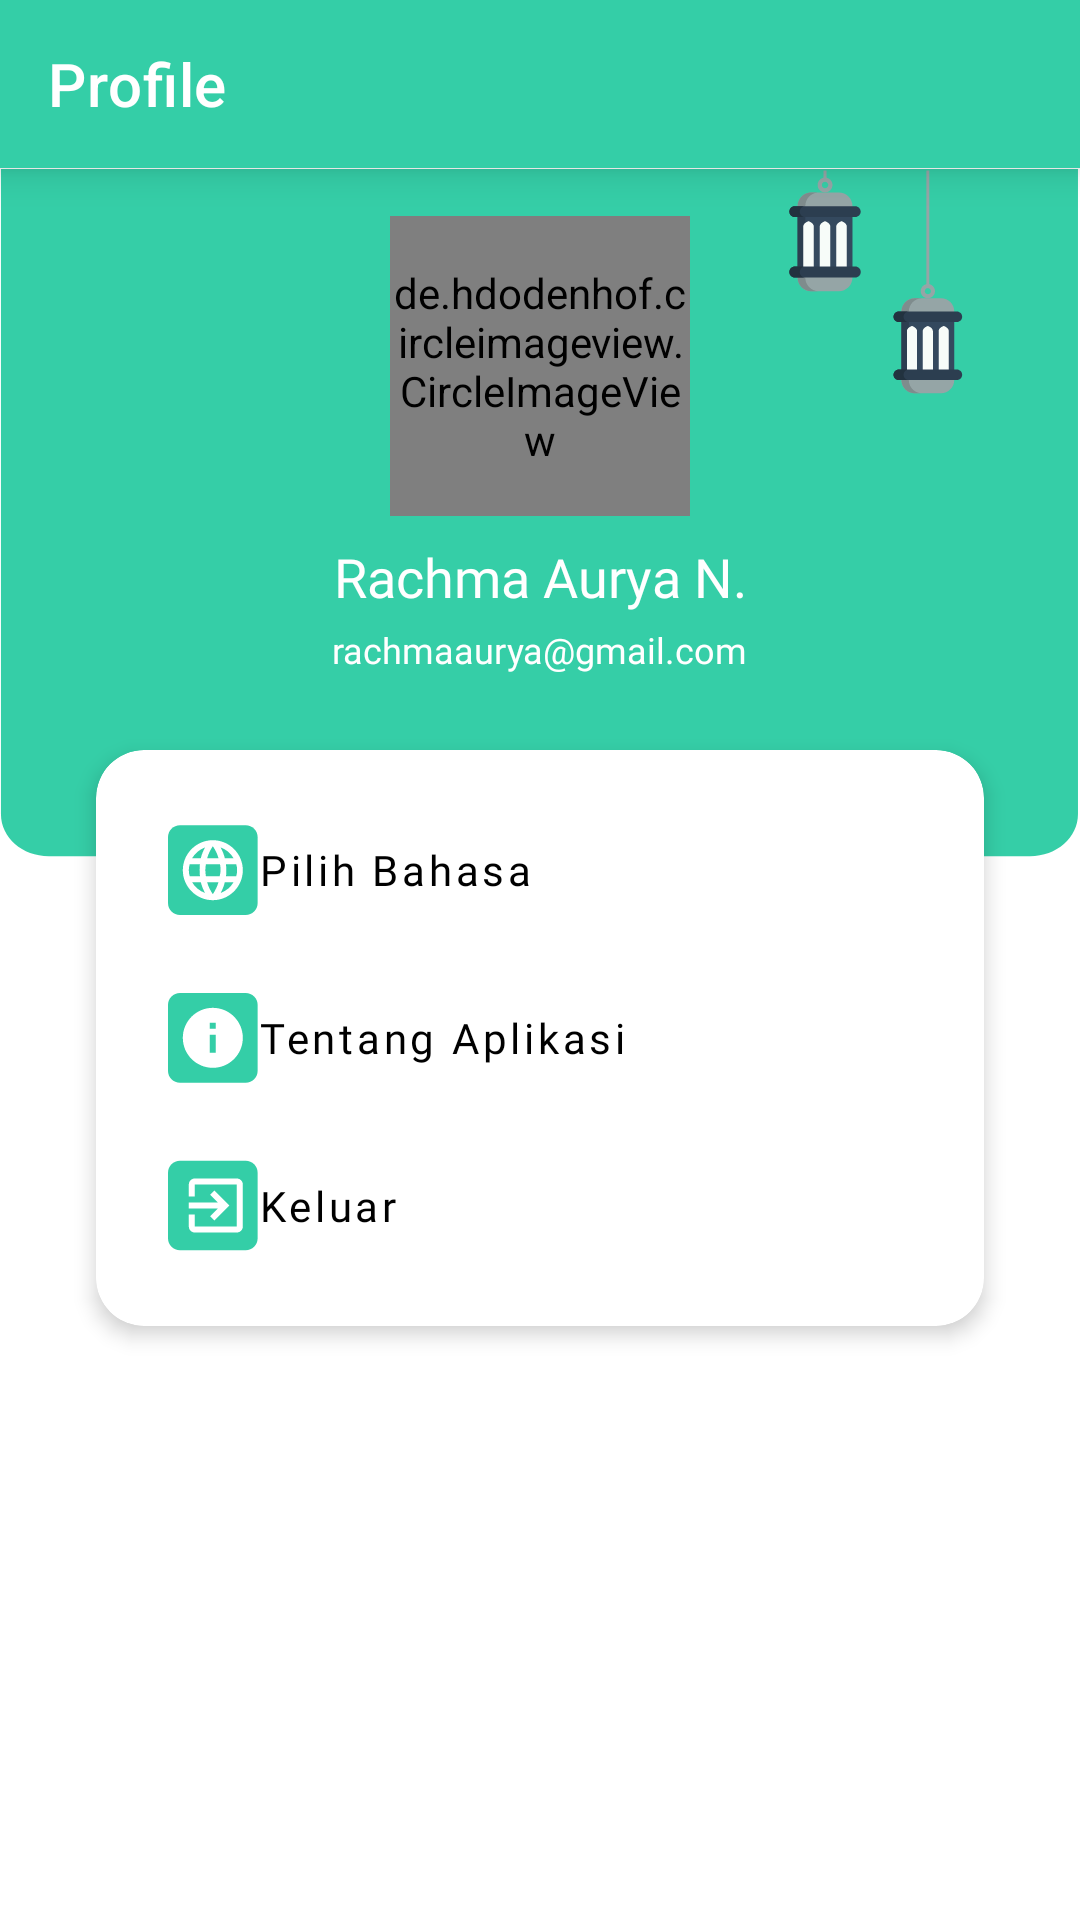

Icon click points for this 1080 x 1920 phone screenshot, format (x=x, y=y):
lampion jadwalsholat: (x=875, y=282)
